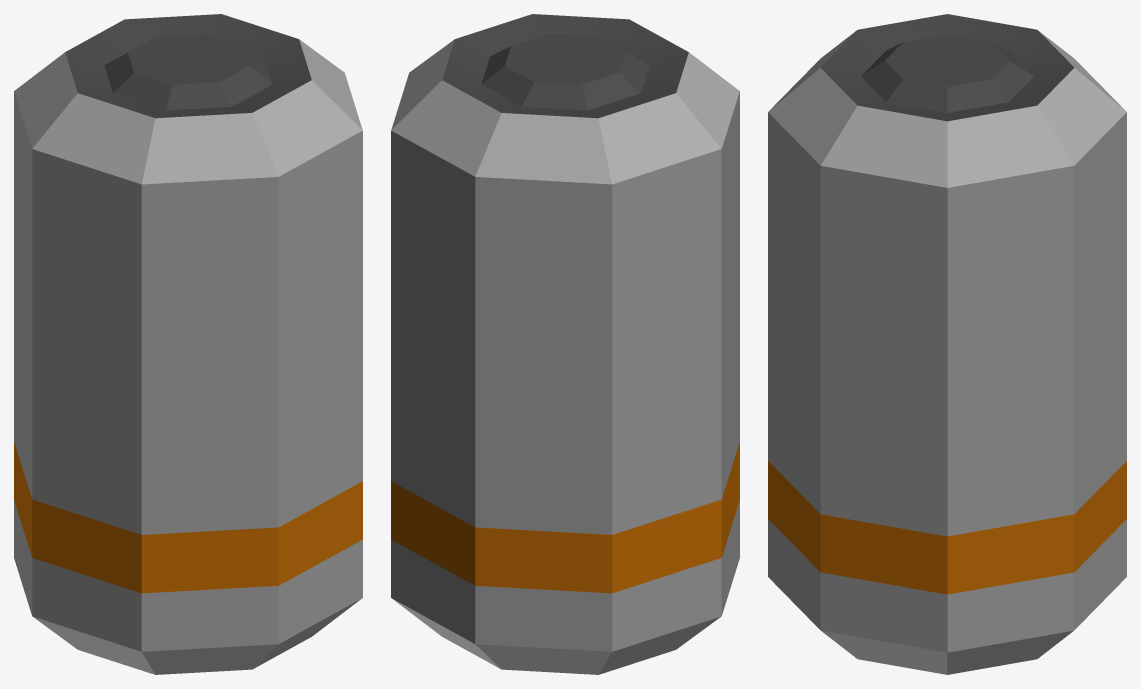
Rendered from cylinder_grey.fbx.
3 views of the same model, side by side, from view 1: azimuth 30°, elevation 25°; view 2: azimuth 150°, elevation 25°; view 3: azimuth 270°, elevation 25° (orthographic).
Visible parts, largest first — view 1: pCylinder1; view 2: pCylinder1; view 3: pCylinder1.
Part boxes in pixels (x1,y1,x2,y2): pCylinder1: [14, 14, 362, 674]; pCylinder1: [391, 14, 739, 674]; pCylinder1: [768, 14, 1126, 674].
Size of the model in its own units: 210 by 366 by 210.
